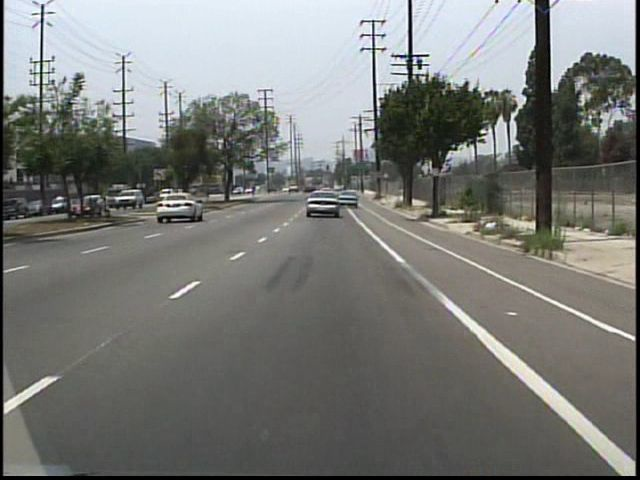person: (56, 193, 67, 215)
